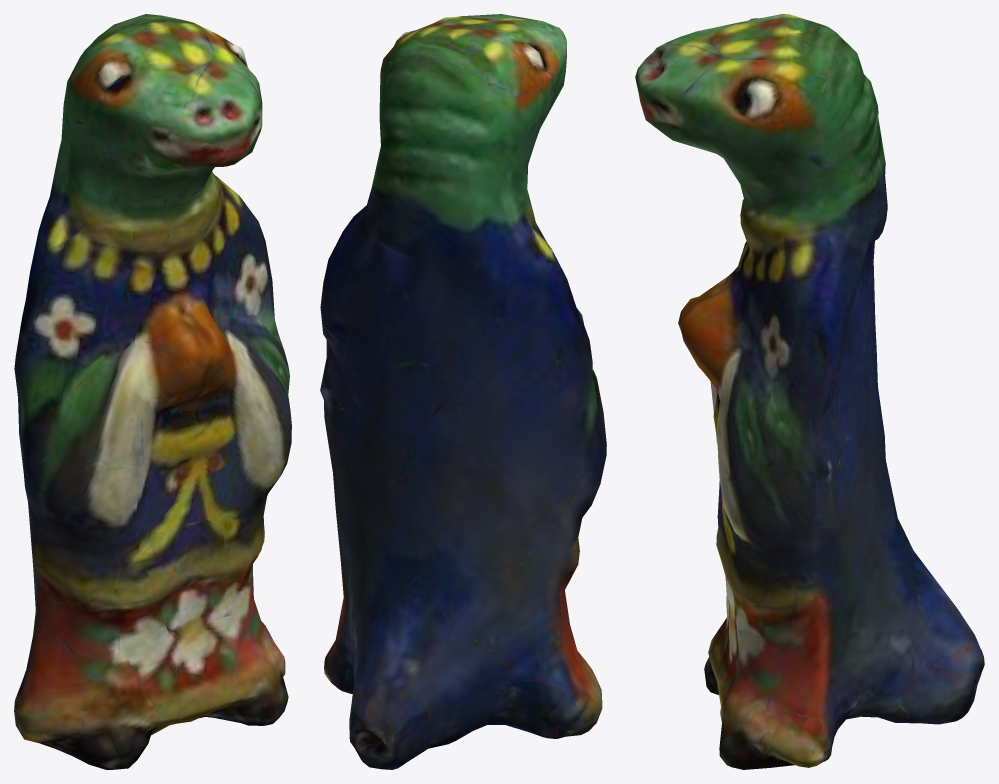
The model's file is hall.glb.
3 views of the same model, side by side, from view 1: azimuth 30°, elevation 25°; view 2: azimuth 150°, elevation 25°; view 3: azimuth 270°, elevation 25° (orthographic). The views are drawn at different scales.
Size of the model in its own units: 0.2173 by 0.5457 by 0.2475.
1 material, 1 textured.
